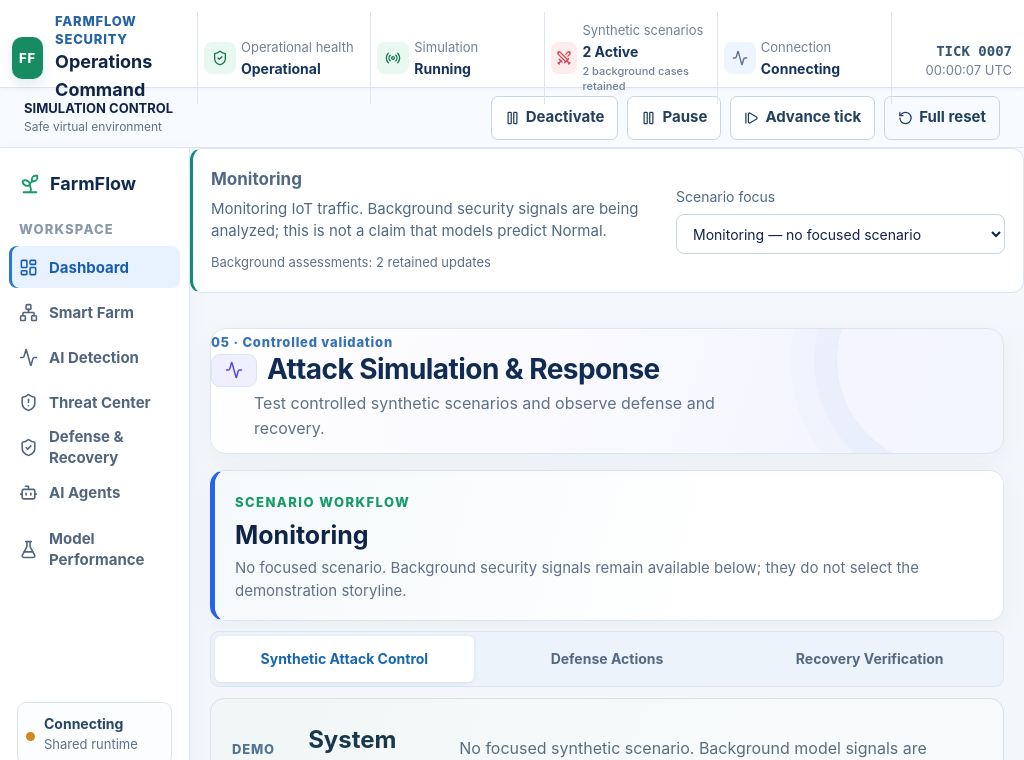
Scenario: persistent operator scenario focus › switches explicitly, clears to monitoring, and does not cancel attacks
Select "Port Scanning · gateway-01 · tick 5 · Active" in the dropdown labelled "Scenario focus" at (840, 234), box [676,214,1005,254]
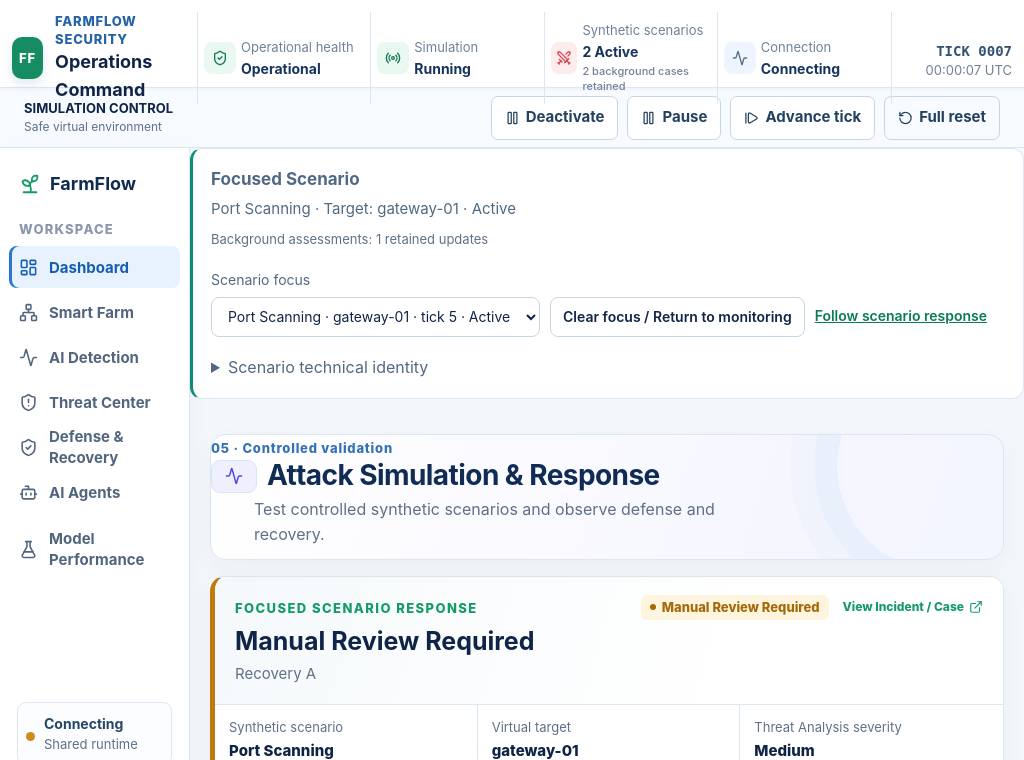
Select "Port Scanning · gateway-01 · tick 5 · Active" in the dropdown labelled "Scenario focus" at (376, 317), box [211,297,540,337]
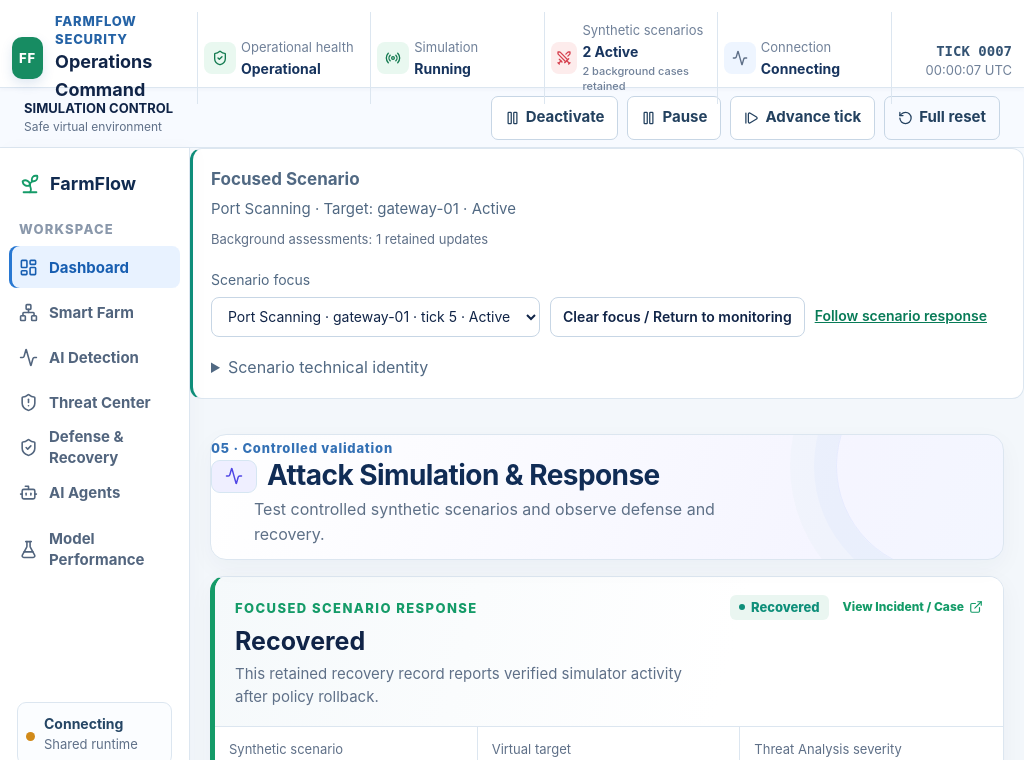
Click the button "Clear focus / Return to monitoring" at (677, 317), box [550,297,805,337]
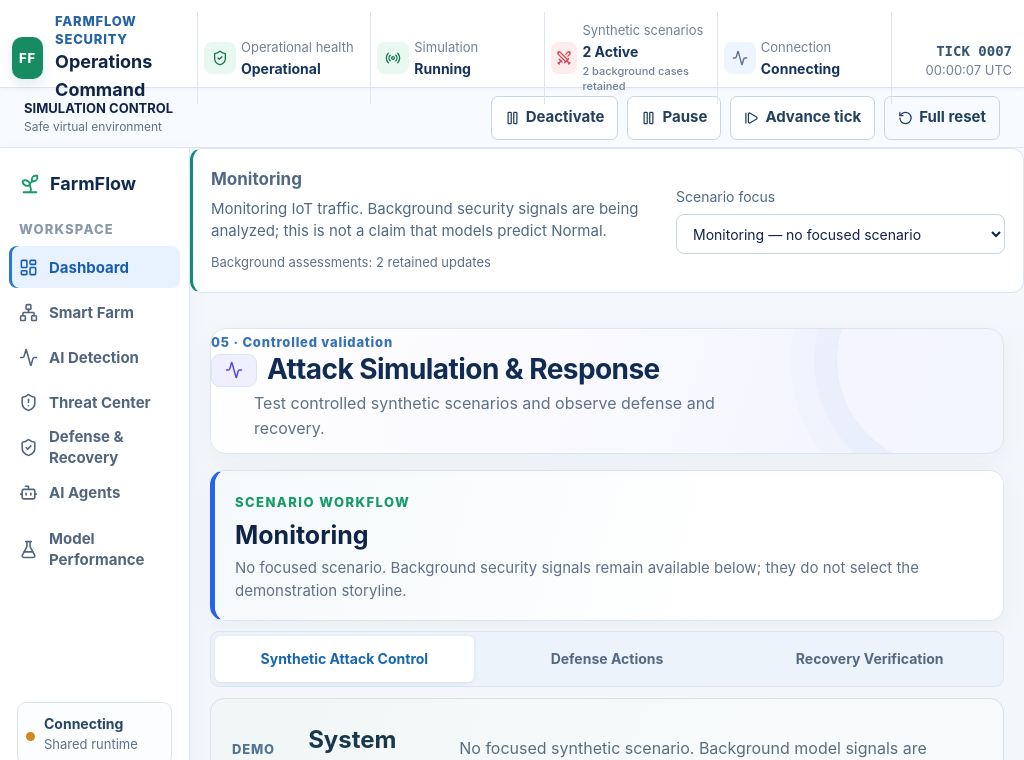
Check: the heading "Monitoring" is shown, box [235,520,369,550]
